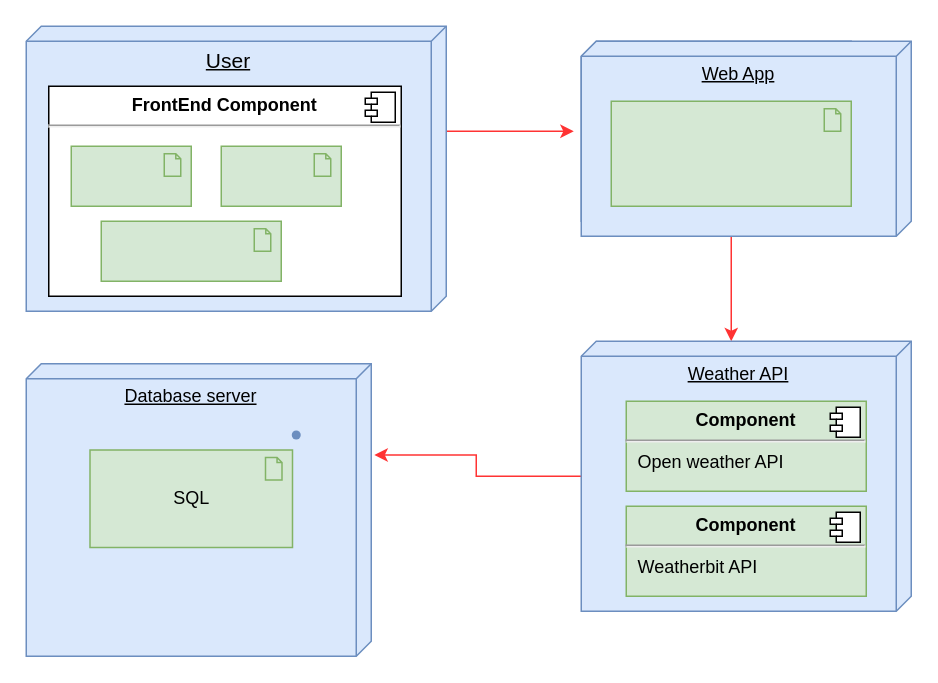
Some shapes in this 938 by 683 pixel diagram are drawn without their labels. The shapes that lost their labels are listed below. From the top down, each one's centre as x and y in pixels, then its label:
At (x=730, y=153): "PHP".
At (x=130, y=175): "HTML".
At (x=280, y=175): "CSS".
At (x=190, y=250): "JavaScript".
